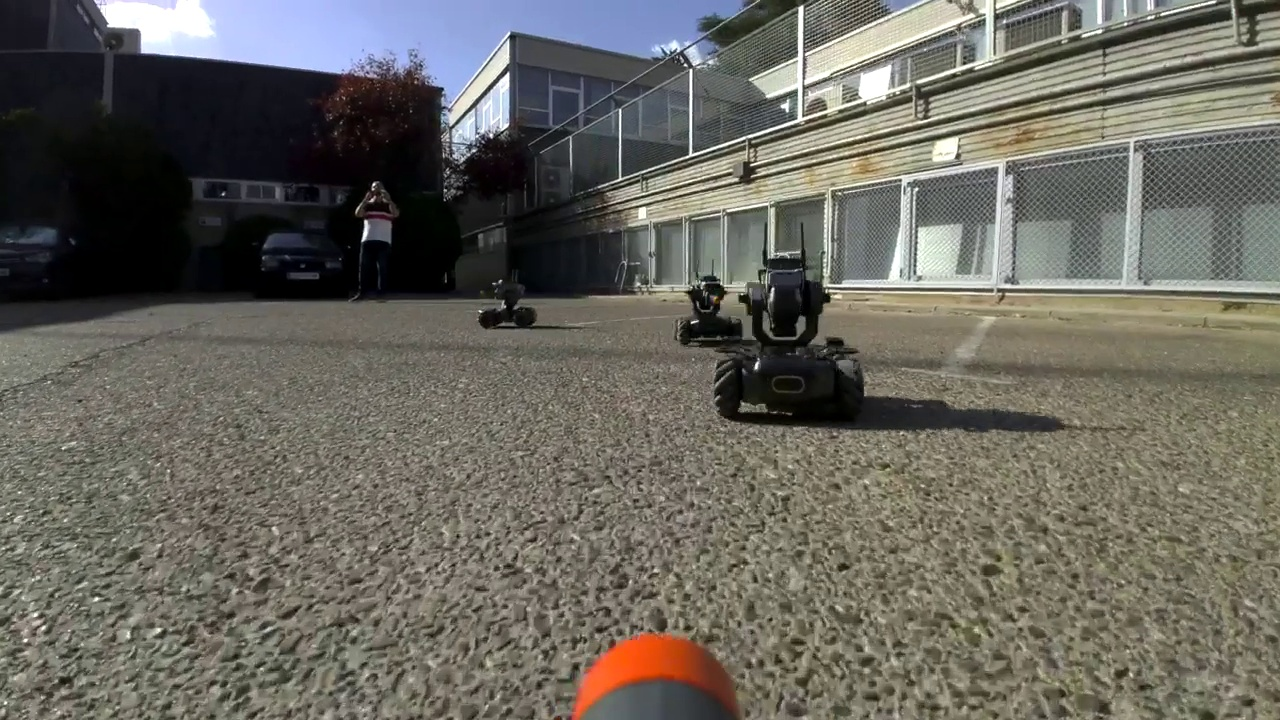robot: (712, 219, 867, 422), (673, 257, 744, 346), (478, 266, 538, 329)
